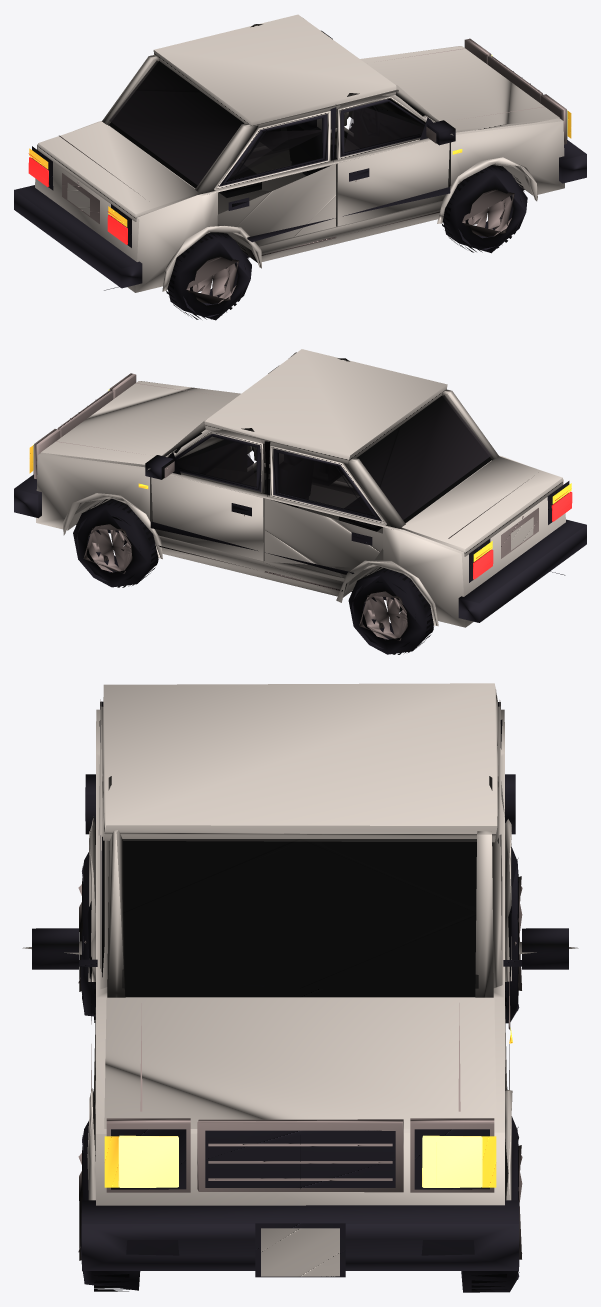
Rendered from veh.sedan-white.lod2.glb.
3 views of the same model, one above another, from view 1: azimuth 30°, elevation 25°; view 2: azimuth 150°, elevation 25°; view 3: azimuth 270°, elevation 25° (orthographic). The views are drawn at different scales.
Visible parts, largest first — view 1: body, veh.sedan-white, doorL, doorRearL, wheelRL, wheelFL, lampBrakeL, lampBrakeR; view 2: body, veh.sedan-white, doorR, doorRearR, wheelFR, wheelRR, lampBrakeR, lampBrakeL; view 3: body, veh.sedan-white, lampHeadR, lampHeadL, doorR, doorL, wheelFR, wheelFL, wheelRR, wheelRL.
Part boxes in pixels (bbox=[...]): body: bbox=[35, 14, 564, 292]; veh.sedan-white: bbox=[14, 38, 586, 290]; doorL: bbox=[336, 93, 455, 233]; doorRearL: bbox=[214, 110, 336, 255]; wheelRL: bbox=[166, 232, 251, 320]; wheelFL: bbox=[442, 165, 527, 253]; lampBrakeL: bbox=[107, 206, 127, 244]; lampBrakeR: bbox=[28, 148, 49, 187]; body: bbox=[36, 349, 565, 627]; veh.sedan-white: bbox=[14, 373, 586, 622]; doorR: bbox=[145, 428, 265, 568]; doorRearR: bbox=[264, 445, 386, 591]; wheelFR: bbox=[73, 499, 158, 587]; wheelRR: bbox=[348, 567, 433, 654]; lampBrakeR: bbox=[473, 541, 493, 579]; lampBrakeL: bbox=[551, 483, 572, 521]; body: bbox=[87, 683, 512, 1276]; veh.sedan-white: bbox=[81, 701, 519, 1277]; lampHeadR: bbox=[414, 1129, 496, 1189]; lampHeadL: bbox=[104, 1129, 186, 1189]; doorR: bbox=[489, 776, 578, 1090]; doorL: bbox=[22, 776, 111, 1099]; wheelFR: bbox=[461, 1116, 522, 1292]; wheelFL: bbox=[78, 1114, 140, 1291]; wheelRR: bbox=[505, 846, 522, 1023]; wheelRL: bbox=[78, 852, 95, 1022].
Bounding box in the file's own units: 4.77 × 1.83 × 2.46.
